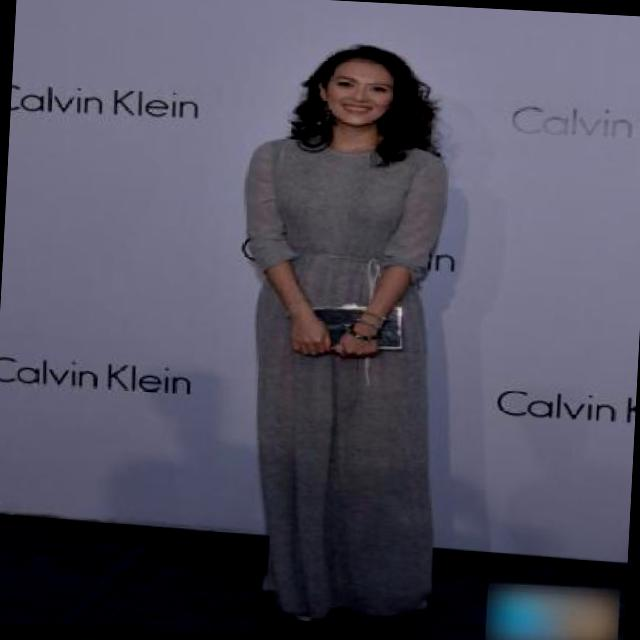Person: (149, 8, 586, 640)
